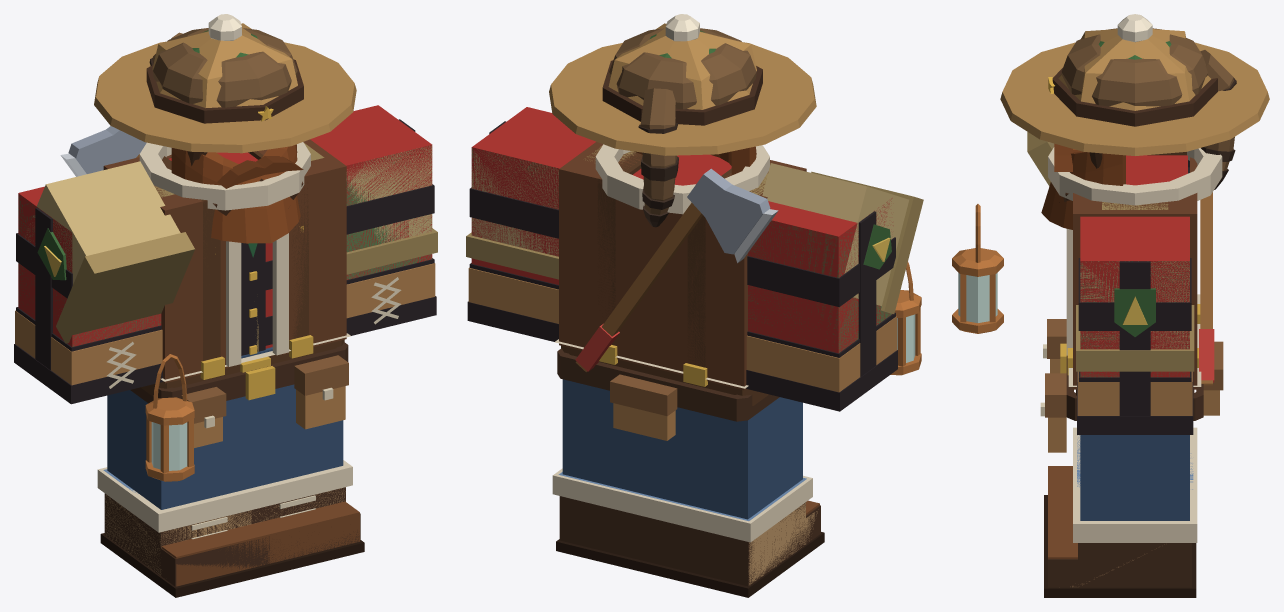
File: w2_keepers.fbx
3 renders of one model, left to right at view 1: azimuth 30°, elevation 25°; view 2: azimuth 150°, elevation 25°; view 3: azimuth 270°, elevation 25°, orthographic.
Parts seen in each view (by area): view 1: RangerGear.Hat, TrapperGear.Vest, LumberjackGear.Jeans, RangerGear.SleeveR, RangerGear.CuffR, TrapperGear.FurTrim, LumberjackGear.SleeveL, RangerGear.Boots, LumberjackGear.Boots, LumberjackGear.SleeveChecksR, TrapperGear.Cap, TrapperGear.BootFur (+32 smaller); view 2: TrapperGear.Vest, LumberjackGear.Jeans, RangerGear.Hat, LumberjackGear.SleeveR, RangerGear.Boots, LumberjackGear.SleeveChecksR, LumberjackGear.SleeveL, TrapperGear.Cap, RangerGear.SleeveR, TrapperGear.BootFur, TrapperGear.BracerR, LumberjackGear.Suspenders (+27 smaller); view 3: RangerGear.Hat, LumberjackGear.SleeveL, LumberjackGear.Jeans, TrapperGear.Cap, RangerGear.Boots, LumberjackGear.SleeveChecksL, TrapperGear.FurTrim, TrapperGear.BootFur, TrapperGear.Vest, RangerGear.CuffL, TrapperGear.BracerL, RangerGear.HatBand (+19 smaller).
Part boxes in pixels (bbox=[...]): RangerGear.Hat: bbox=[94, 23, 356, 153]; TrapperGear.Vest: bbox=[103, 139, 346, 383]; LumberjackGear.Jeans: bbox=[107, 384, 343, 509]; RangerGear.SleeveR: bbox=[25, 161, 180, 284]; RangerGear.CuffR: bbox=[56, 232, 194, 343]; TrapperGear.FurTrim: bbox=[139, 142, 350, 381]; LumberjackGear.SleeveL: bbox=[310, 105, 432, 279]; RangerGear.Boots: bbox=[104, 487, 360, 586]; LumberjackGear.Boots: bbox=[161, 501, 359, 586]; LumberjackGear.SleeveChecksR: bbox=[14, 207, 162, 404]; TrapperGear.Cap: bbox=[152, 28, 297, 107]; TrapperGear.BootFur: bbox=[97, 460, 352, 532]; TrapperGear.Vest: bbox=[559, 142, 806, 390]; LumberjackGear.Jeans: bbox=[562, 379, 802, 519]; RangerGear.Hat: bbox=[549, 23, 816, 155]; LumberjackGear.SleeveR: bbox=[748, 198, 893, 353]; RangerGear.Boots: bbox=[559, 496, 820, 586]; LumberjackGear.SleeveChecksR: bbox=[746, 211, 897, 411]; LumberjackGear.SleeveL: bbox=[471, 107, 595, 284]; TrapperGear.Cap: bbox=[609, 28, 756, 214]; RangerGear.SleeveR: bbox=[762, 163, 908, 306]; TrapperGear.BootFur: bbox=[552, 468, 812, 542]; TrapperGear.BracerR: bbox=[746, 316, 896, 392]; LumberjackGear.Suspenders: bbox=[597, 152, 731, 367]; RangerGear.Hat: bbox=[1000, 29, 1269, 155]; LumberjackGear.SleeveL: bbox=[1080, 216, 1189, 377]; LumberjackGear.Jeans: bbox=[1080, 435, 1189, 520]; TrapperGear.Cap: bbox=[1061, 28, 1234, 170]; RangerGear.Boots: bbox=[1048, 543, 1191, 587]; LumberjackGear.SleeveChecksL: bbox=[1078, 258, 1191, 415]; TrapperGear.FurTrim: bbox=[1048, 147, 1222, 386]; TrapperGear.BootFur: bbox=[1073, 427, 1197, 542]; TrapperGear.Vest: bbox=[1073, 157, 1197, 389]; RangerGear.CuffL: bbox=[1076, 305, 1194, 371]; TrapperGear.BracerL: bbox=[1077, 371, 1192, 415]; RangerGear.HatBand: bbox=[1052, 68, 1217, 126].
Size of the model in its own units: 4.18 by 5.68 by 3.07.
